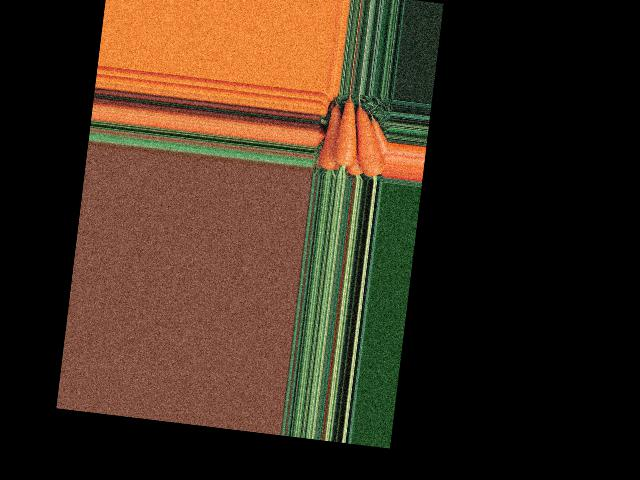carrot: (347, 103, 388, 176)
